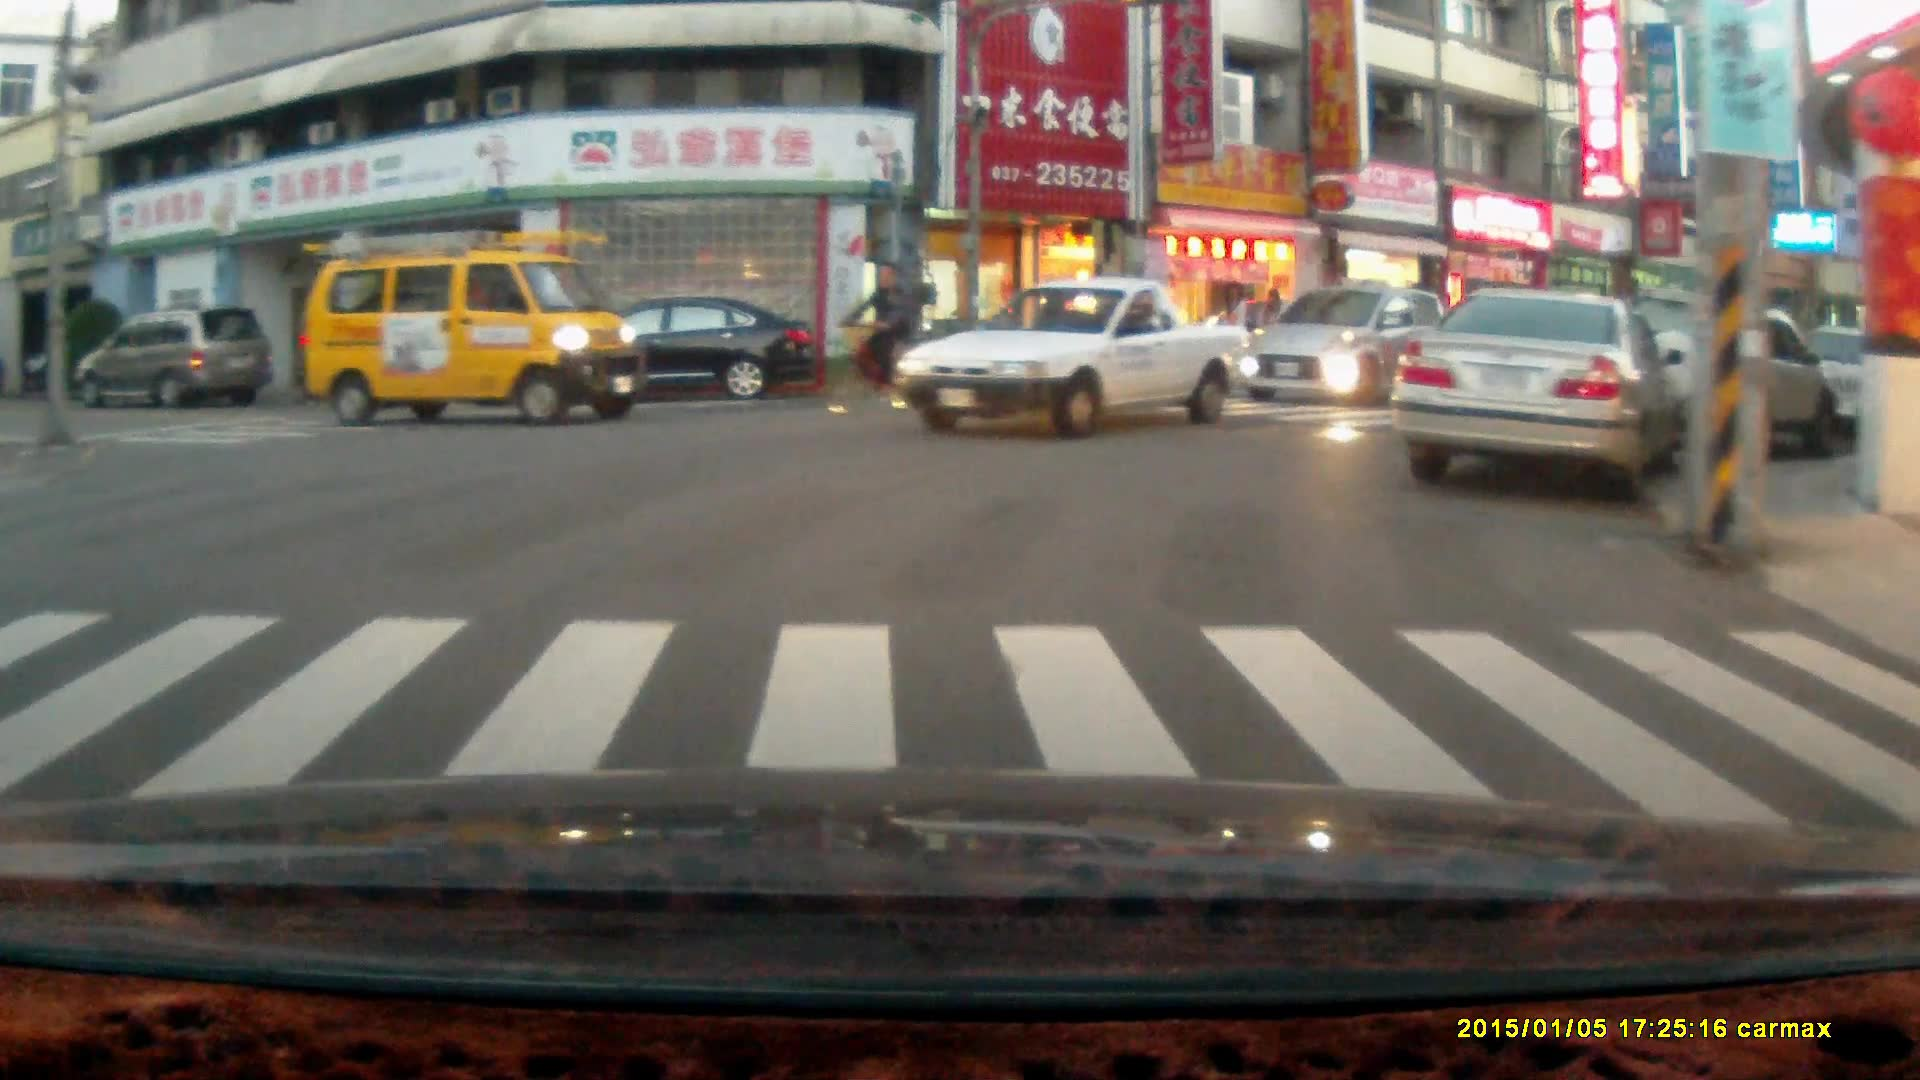pedestrian: (1216, 279, 1248, 372), (1258, 284, 1285, 378)
rider: (818, 256, 932, 413)
vehicle: (294, 227, 652, 429), (895, 277, 1259, 440), (1396, 283, 1662, 503), (1581, 291, 1846, 468), (536, 290, 817, 406), (1240, 279, 1452, 407), (71, 301, 275, 413)
